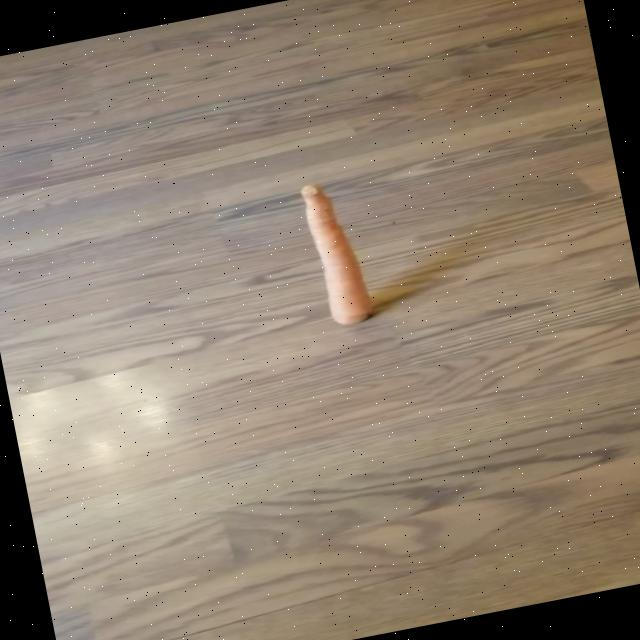carrot: (301, 185, 373, 325)
